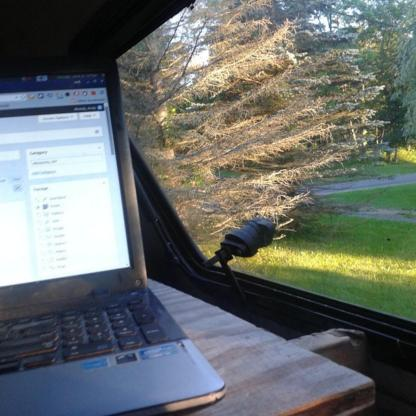board: (0, 48, 223, 416)
